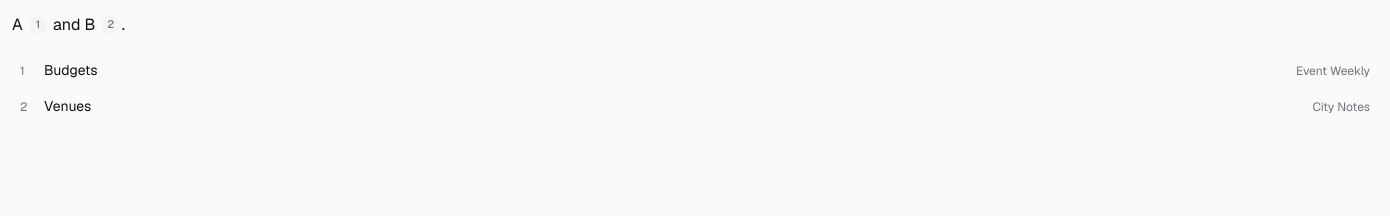
Test: Citations › switches the open quote when another marker is chosen
The width and height of the screenshot is (1390, 216).
Click the button named "Source 1" at [38, 25], box [29,16,47,34]
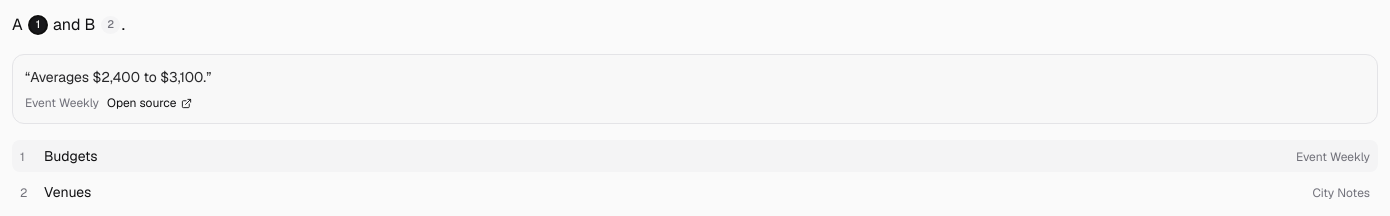
Click the button named "Source 2" at [111, 25], box [101,16,120,34]
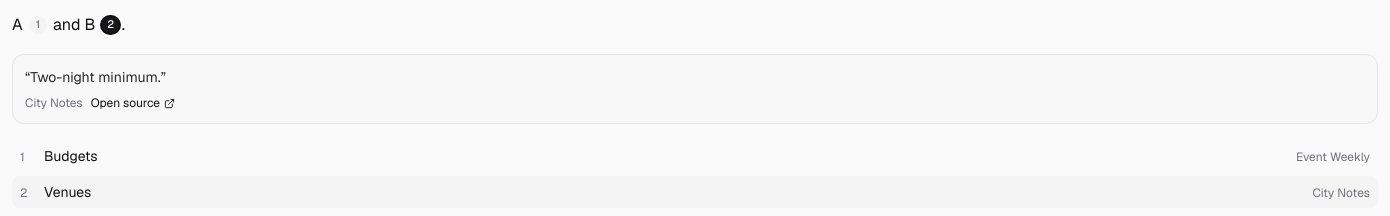
expect the text "“Two-night minimum.”" is shown: met, box [25,68,166,86]
expect the text "Averages" is gone: met
